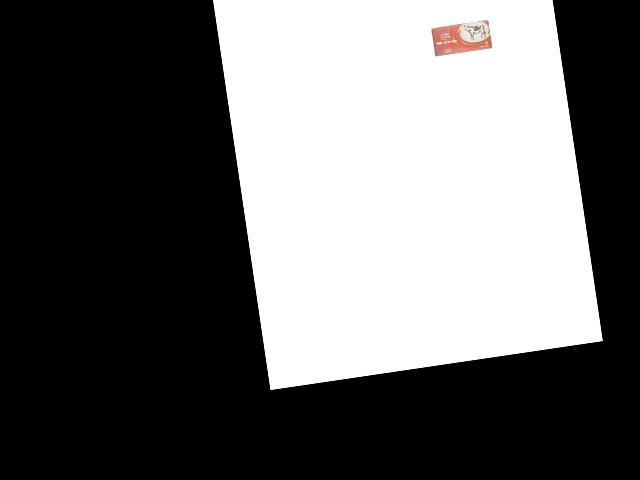chocolate: (429, 20, 492, 58)
